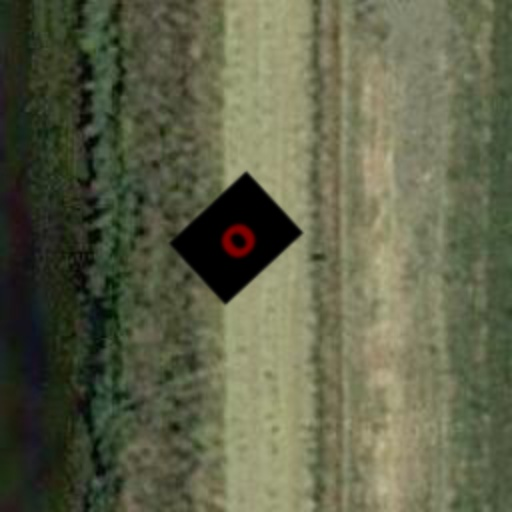rectangle: (160, 162, 312, 314)
